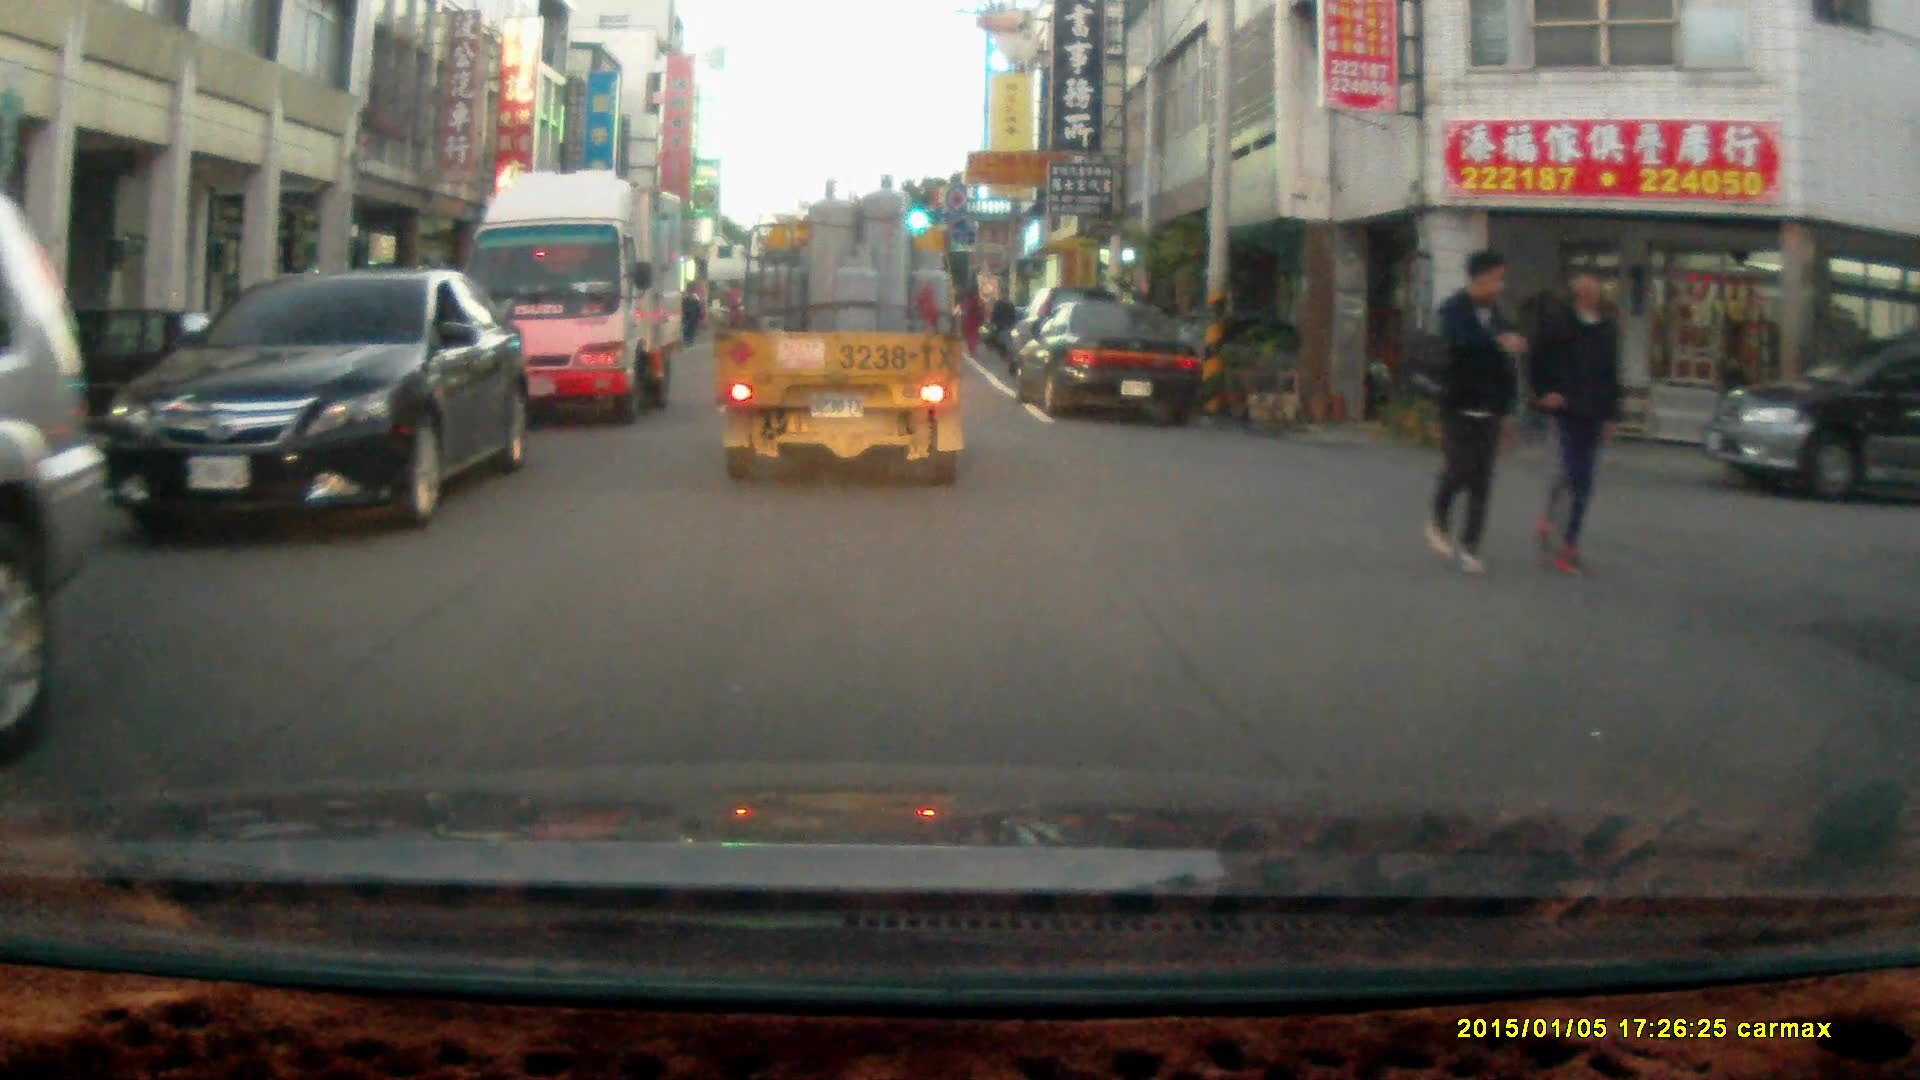pedestrian: (1527, 257, 1627, 585), (1422, 245, 1519, 573), (986, 285, 1015, 363), (670, 285, 702, 347), (960, 282, 986, 356)
vehicle: (102, 265, 536, 529), (719, 171, 970, 488), (460, 167, 687, 428), (1014, 300, 1205, 419)
